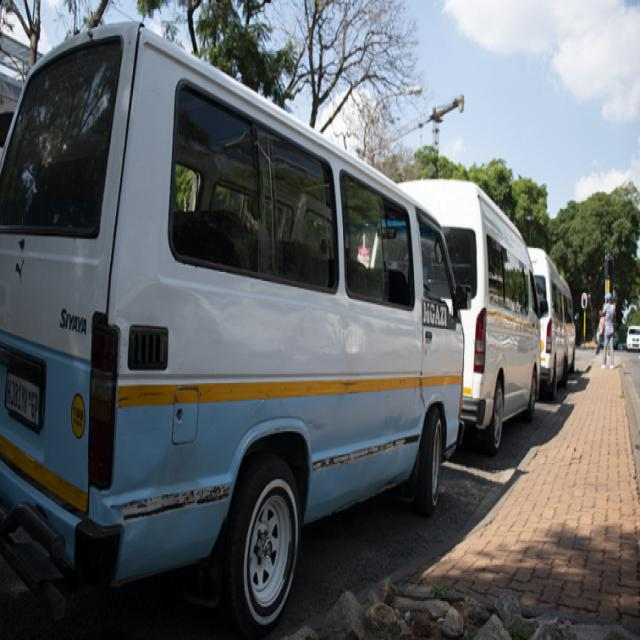MiniBus taxi: (1, 25, 466, 632), (426, 172, 541, 456)
Pedestrians: (599, 290, 619, 370)
